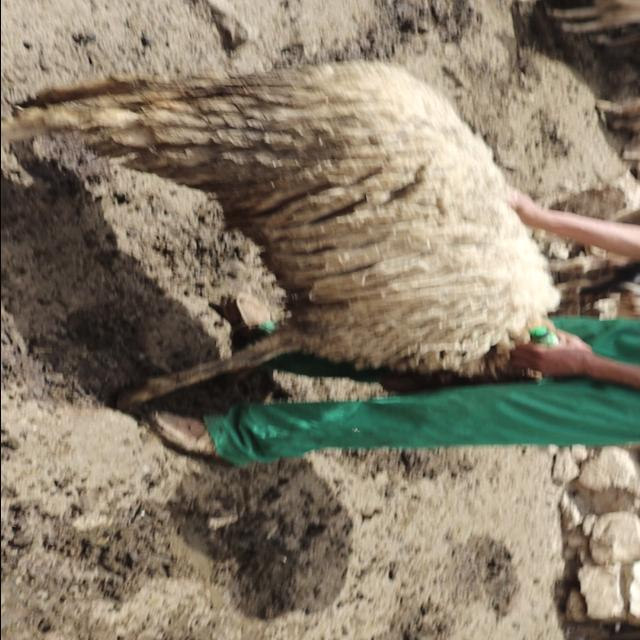Score_2: (1, 60, 558, 408)
